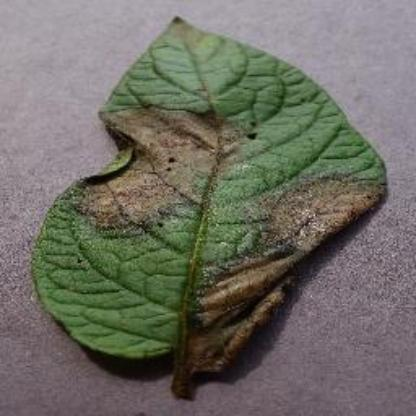Late-Blight: (21, 10, 394, 412)
